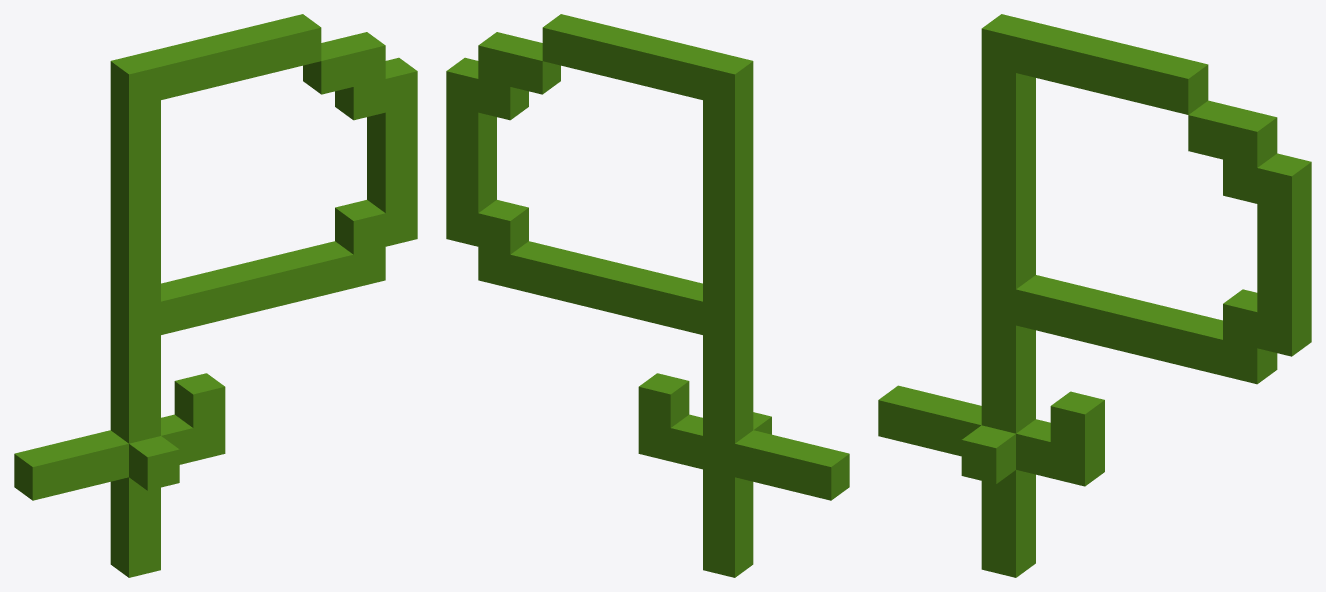
Rendered from Ruble.obj.
3 renders of one model, left to right at view 1: azimuth 30°, elevation 25°; view 2: azimuth 150°, elevation 25°; view 3: azimuth 330°, elevation 25°, orthographic. The views are drawn at different scales.
Size of the model in its own units: 1.2 by 1.5 by 0.2.
1 material, 1 textured.
